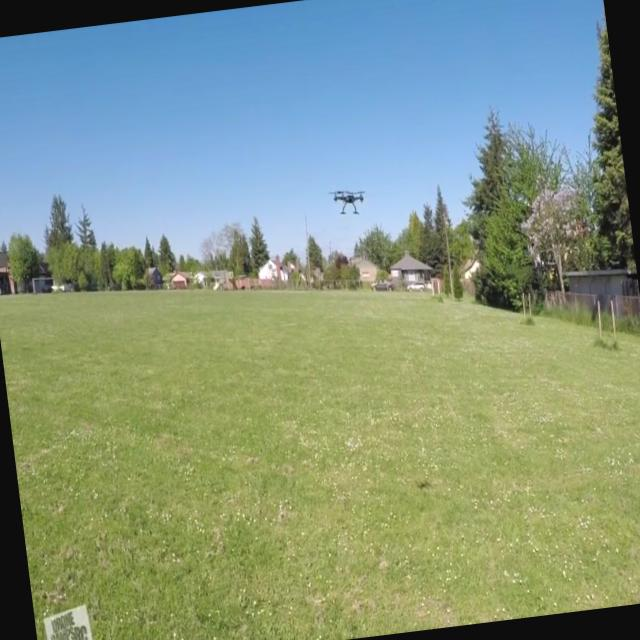drone: (328, 182, 370, 222)
